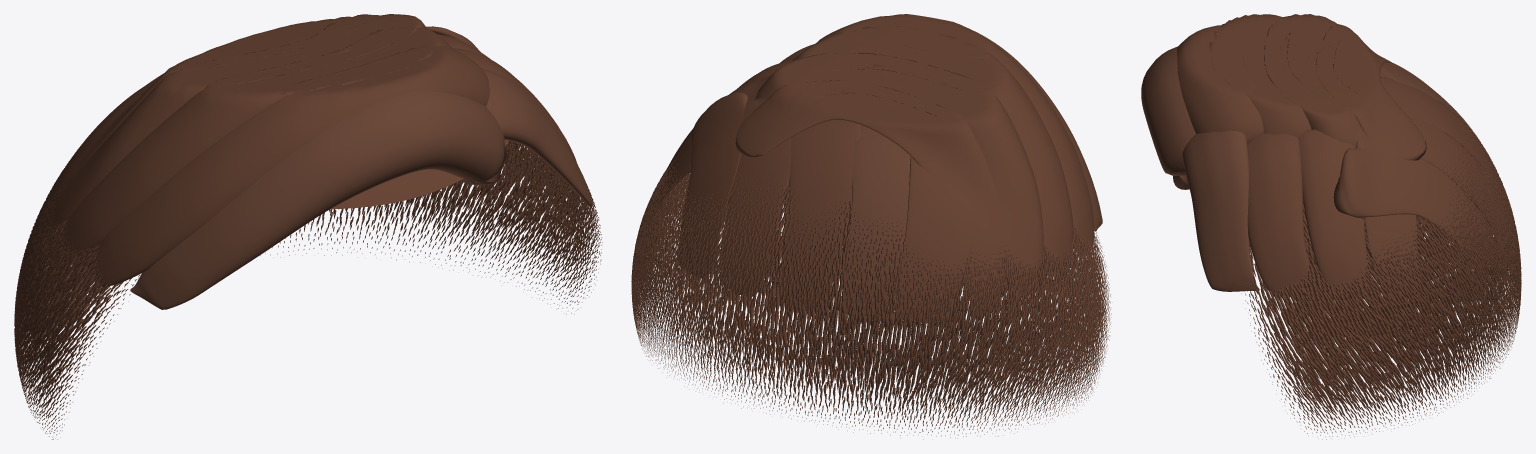
Rendered from Masculine-taper-bucket254-hair.glb.
3 views of the same model, side by side, from view 1: azimuth 30°, elevation 25°; view 2: azimuth 150°, elevation 25°; view 3: azimuth 270°, elevation 25° (orthographic). The views are drawn at different scales.
Visible parts, largest first — view 1: 226 hair / Hair252 / sculpted locks, 226 hair / Hair252 / gentle tonal variation, 226 hair / Hair254 / rooted short groom; view 2: 226 hair / Hair252 / sculpted locks, 226 hair / Hair254 / rooted short groom, 226 hair / Hair252 / gentle tonal variation; view 3: 226 hair / Hair252 / sculpted locks, 226 hair / Hair254 / rooted short groom, 226 hair / Hair252 / gentle tonal variation.
Part boxes in pixels (x1=…): 226 hair / Hair252 / sculpted locks: x1=37, y1=14, x2=576, y2=286; 226 hair / Hair252 / gentle tonal variation: x1=130, y1=68, x2=591, y2=309; 226 hair / Hair254 / rooted short groom: x1=14, y1=139, x2=602, y2=439; 226 hair / Hair252 / sculpted locks: x1=649, y1=14, x2=1094, y2=323; 226 hair / Hair254 / rooted short groom: x1=631, y1=155, x2=1111, y2=439; 226 hair / Hair252 / gentle tonal variation: x1=780, y1=28, x2=1102, y2=320; 226 hair / Hair252 / sculpted locks: x1=1177, y1=14, x2=1507, y2=300; 226 hair / Hair254 / rooted short groom: x1=1243, y1=98, x2=1521, y2=439; 226 hair / Hair252 / gentle tonal variation: x1=1141, y1=46, x2=1473, y2=291.
Bounding box in the file's own units: 0.9716 × 0.6163 × 0.7405.
